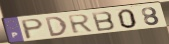0: (117, 8, 139, 29)
8: (141, 6, 161, 26)
B: (90, 10, 117, 33)
D: (44, 15, 69, 38)
P: (20, 18, 45, 41)
R: (66, 13, 95, 35)
